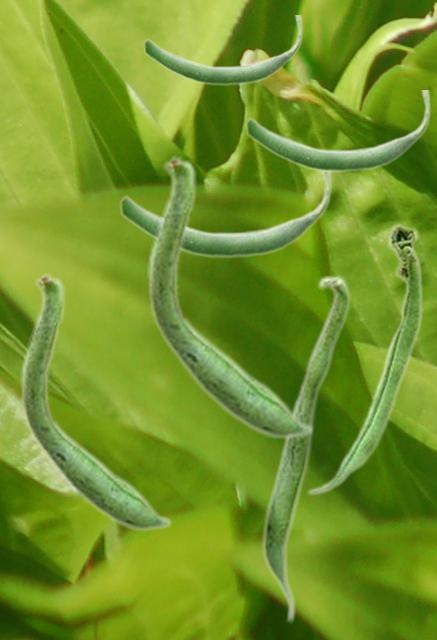french_bean: (147, 153, 313, 439), (20, 271, 171, 531), (306, 222, 422, 495), (261, 274, 350, 624), (119, 172, 331, 258), (245, 90, 430, 172), (143, 15, 302, 85)
